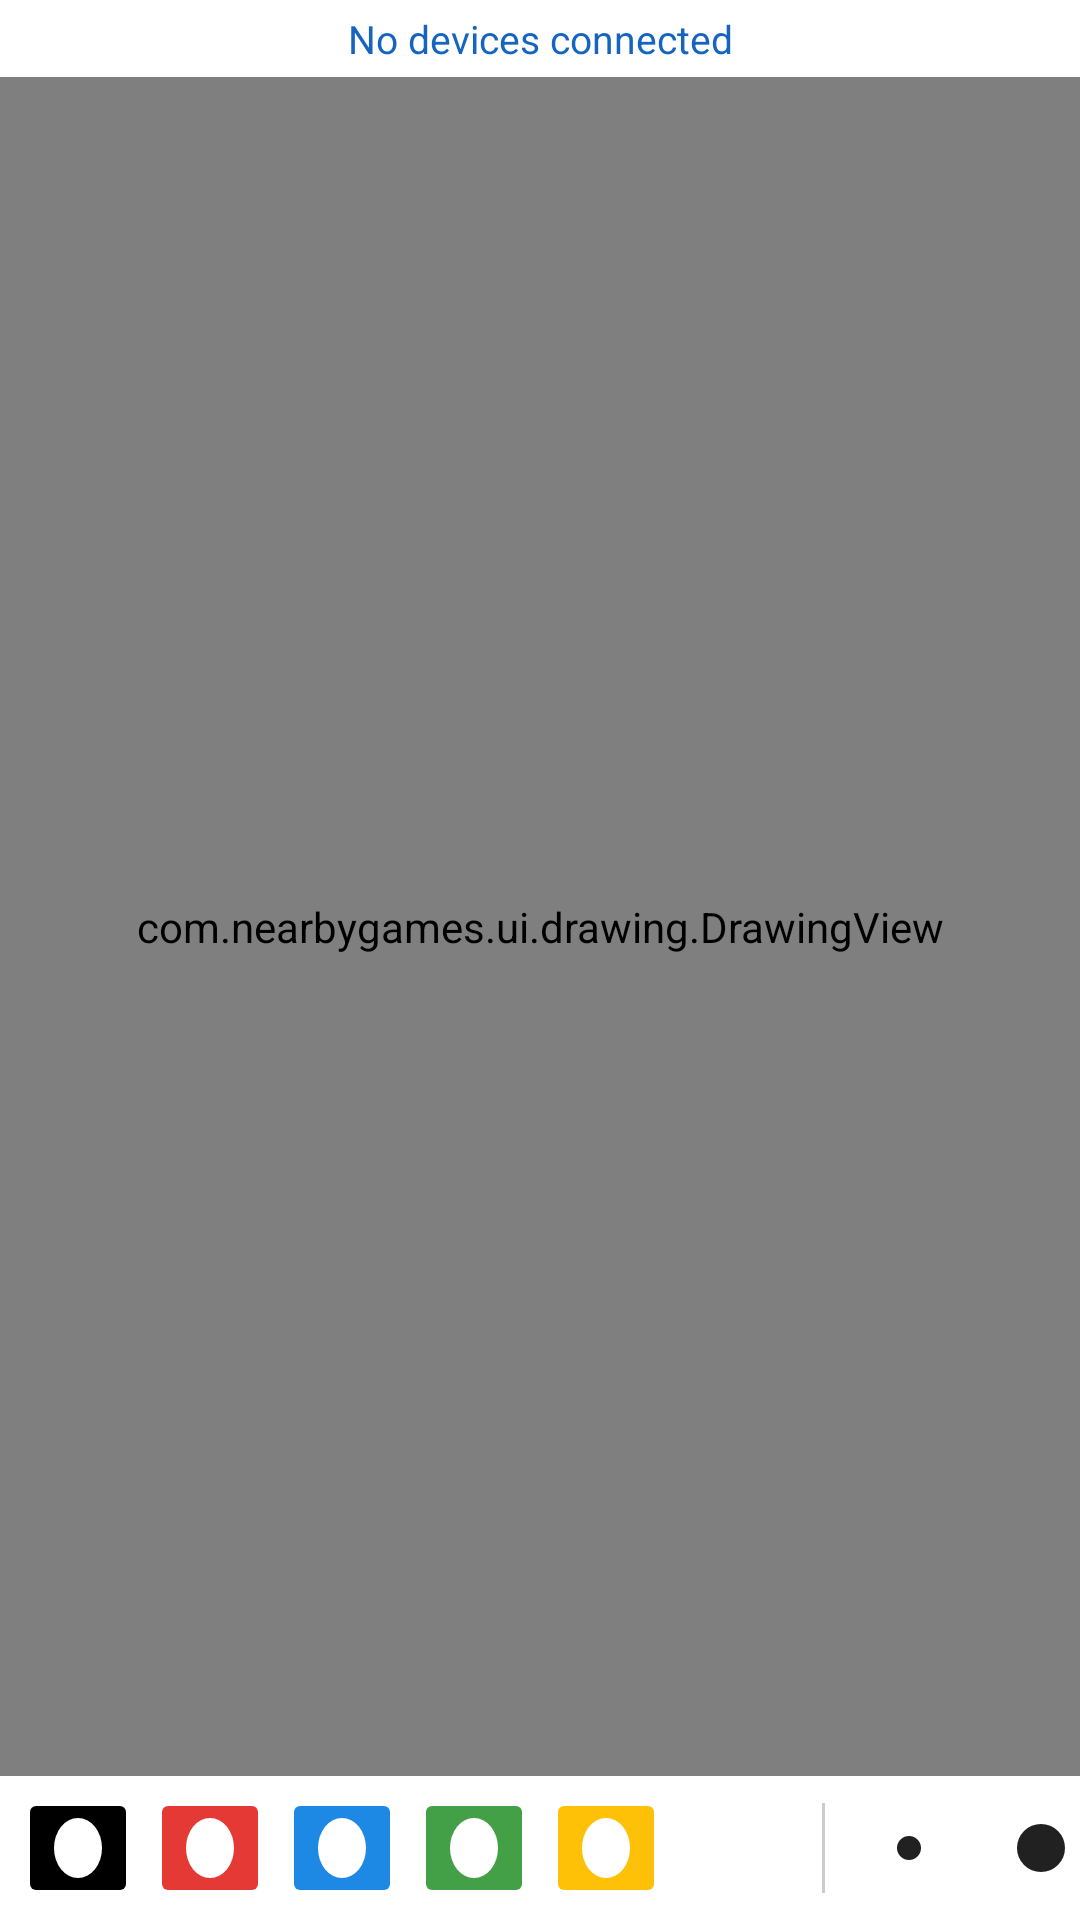

Where to tap for icons on this 1080px×1920px app screen, as point (x, y):
Black: point (78, 1848)
Blue: point (342, 1848)
Green: point (474, 1848)
Red: point (210, 1848)
Small brush: point (909, 1848)
Yellow: point (606, 1848)
